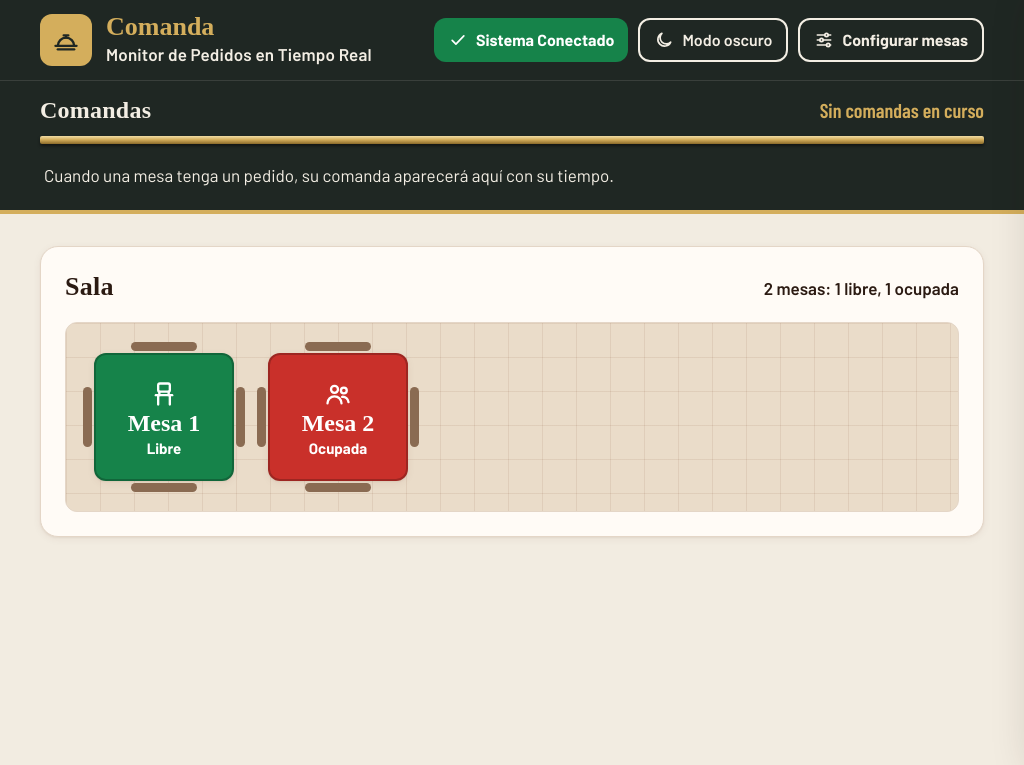
Test: App: mapa de mesas (US-08) › "Tomar pedido" abre la vista de toma de pedido de la mesa ocupada
Expected: the text "Mesa 1" is shown, [128, 410, 200, 437]
Click the button titled "Mesa 2".
click(338, 417)  # box [268, 353, 408, 481]
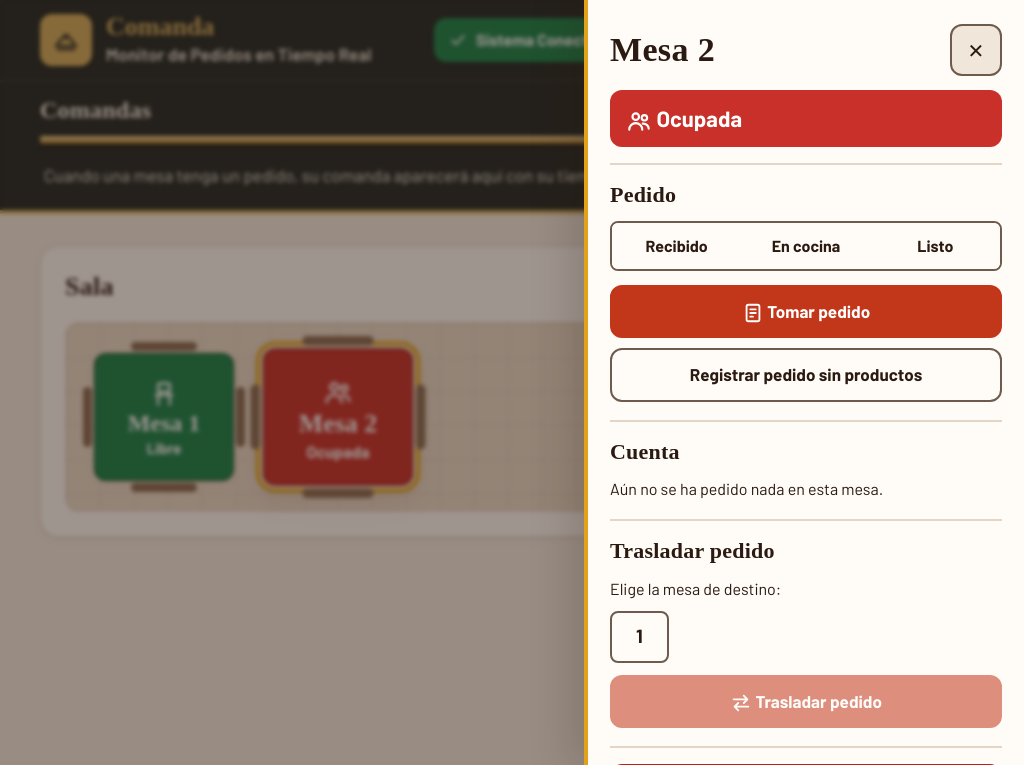
Click the button "Tomar pedido".
click(806, 311)  # box [610, 284, 1002, 338]
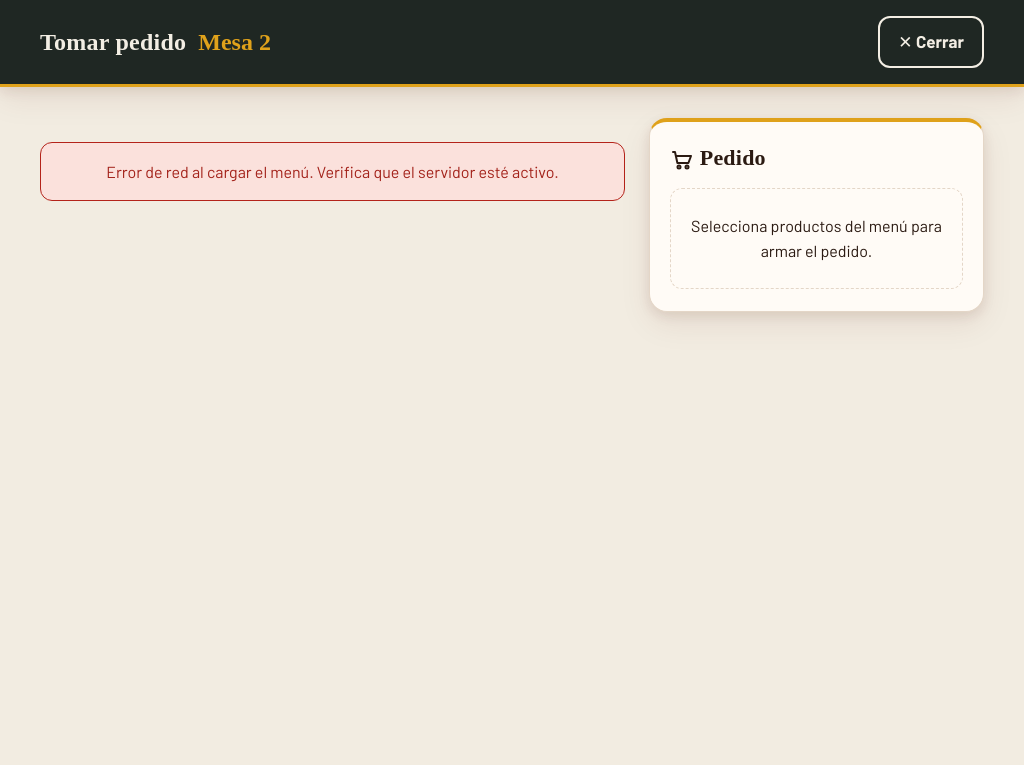
Result: the text "Mesa 2" is shown at [198, 23, 271, 61]
Click the button "✕ Cerrar".
click(931, 42)  # box [878, 16, 984, 68]
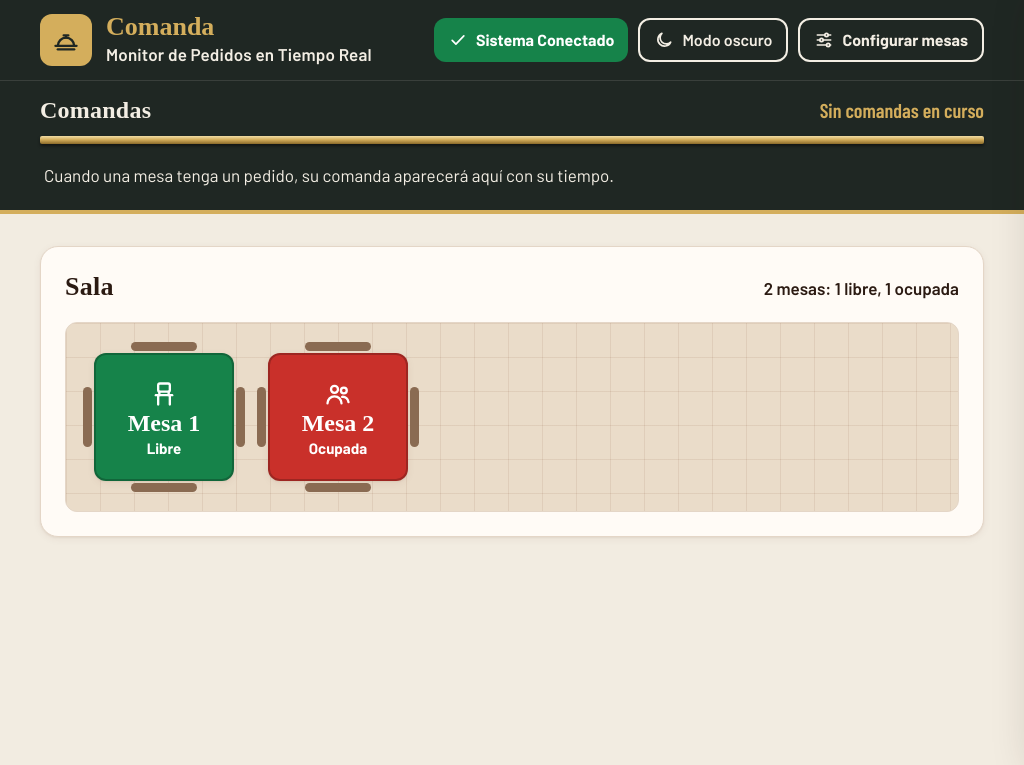
Result: the heading "Tomar pedido" is gone
